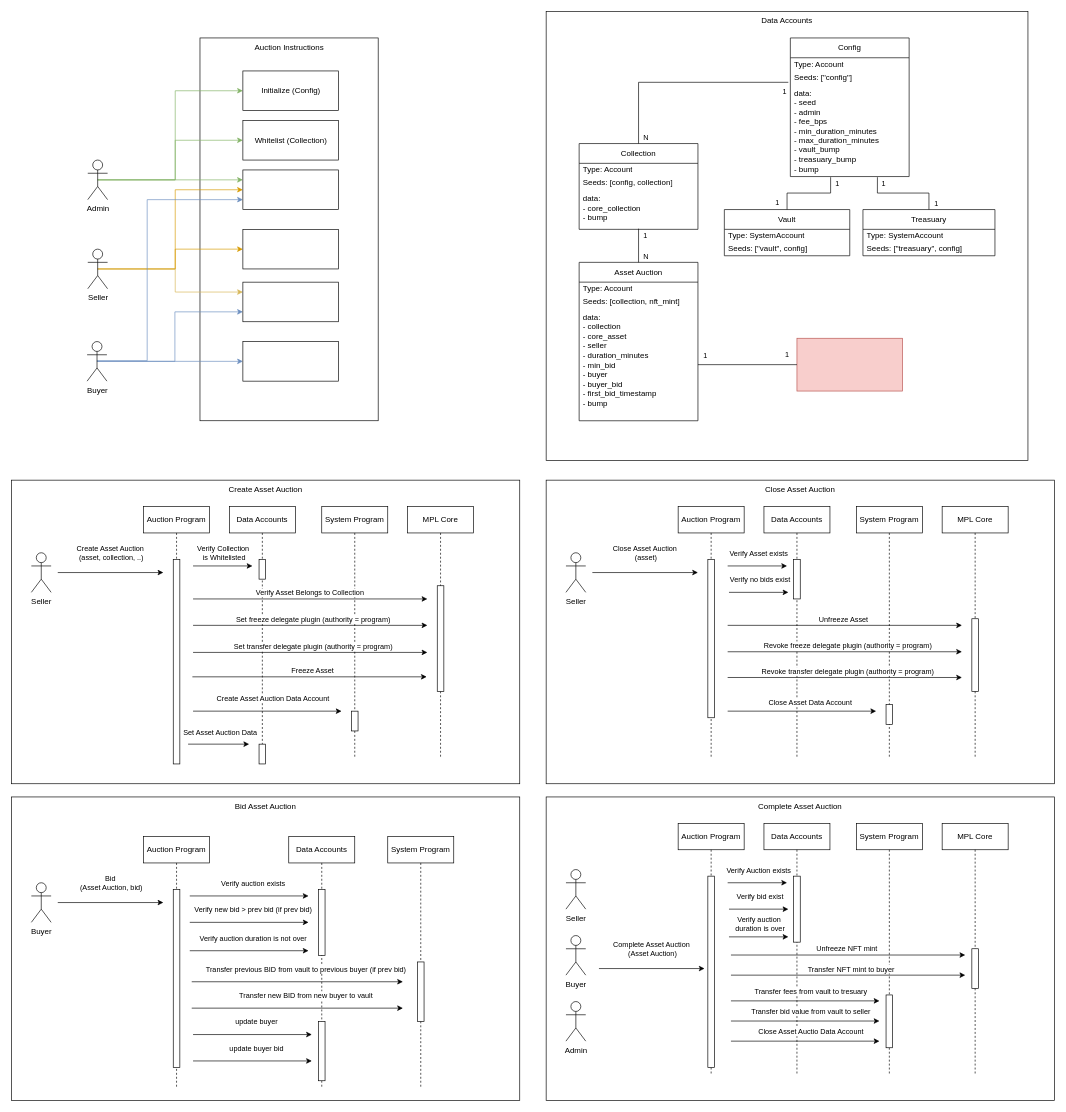
Image size: 1066x1112. Some labels were removed from this diagram. Each missing label, with the centre of its shape:
Bid (Asset Auction): (290,361)
Close (Asset Auction): (290,301)
Complete (Asset Auction): (290,189)
core asset (MPL core) (External Account): (849,364)
Create (Asset Auction): (290,249)
